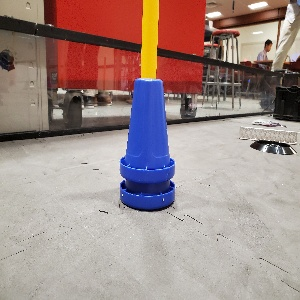Blue_2: (119, 78, 175, 212)
